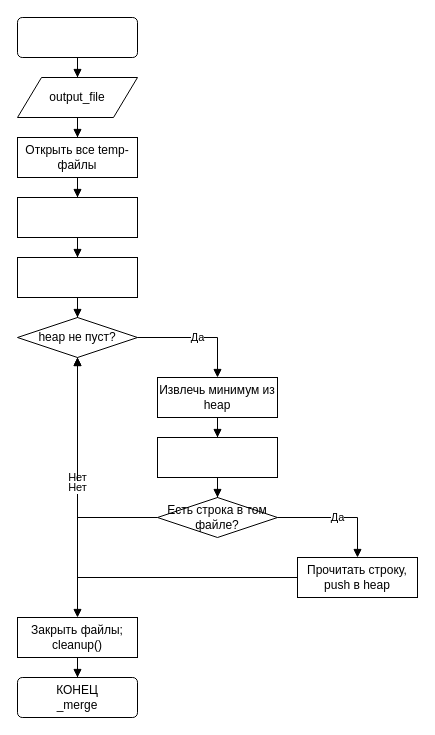
Image size: 435x735. Some labels were removed from this diagram. Here are the shapes that lost their labels. From the top down, the centre of each, then its label:
At [77,37]: "_merge НАЧАЛО".
At [77,217]: "Прочитать 1-ю строку из каждого в heap".
At [77,277]: "Записать заголовок".
At [217,457]: "Записать строку в output".
